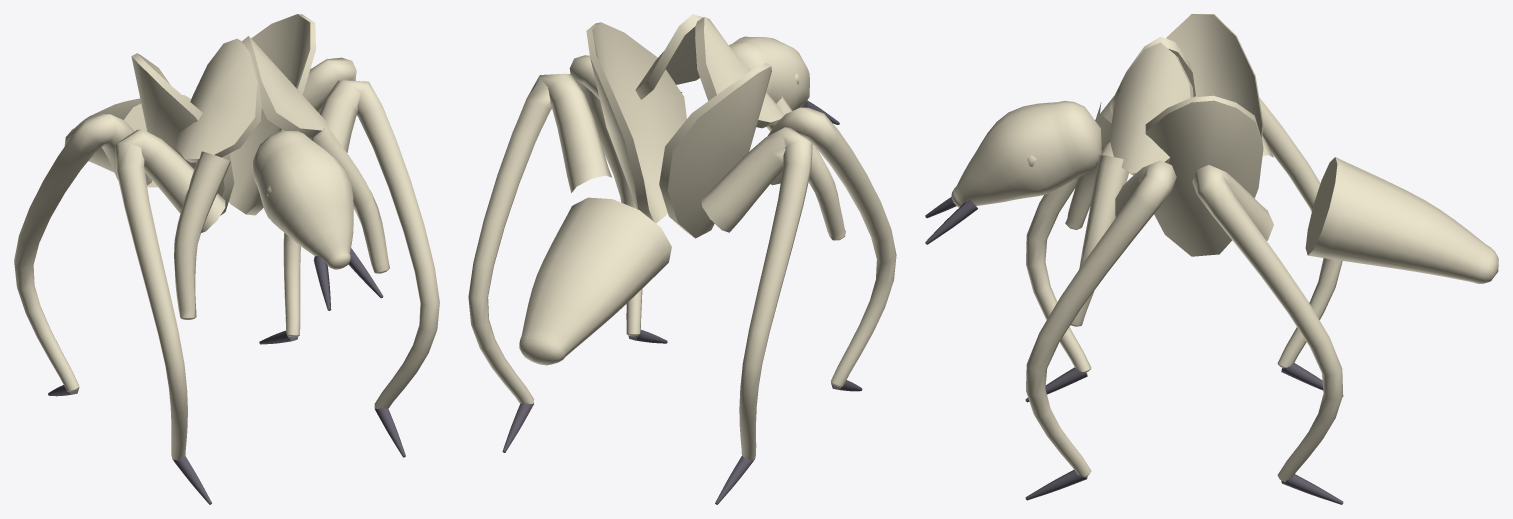
Rendered from xeno-species-and-alien-creatures-insectoid-moult-shell-9ef462e6__21135.glb.
3 renders of one model, left to right at view 1: azimuth 30°, elevation 25°; view 2: azimuth 150°, elevation 25°; view 3: azimuth 270°, elevation 25°, orthographic. The views are drawn at different scales.
Visible parts, largest first — view 1: insectoid-moult-shell; view 2: insectoid-moult-shell; view 3: insectoid-moult-shell.
Boxes of the visible parts, x1,y1,x2,y2 form: insectoid-moult-shell: [14, 14, 439, 504]; insectoid-moult-shell: [468, 14, 896, 504]; insectoid-moult-shell: [925, 14, 1498, 504].
Size of the model in its own units: 1.15 by 1.48 by 1.87.
